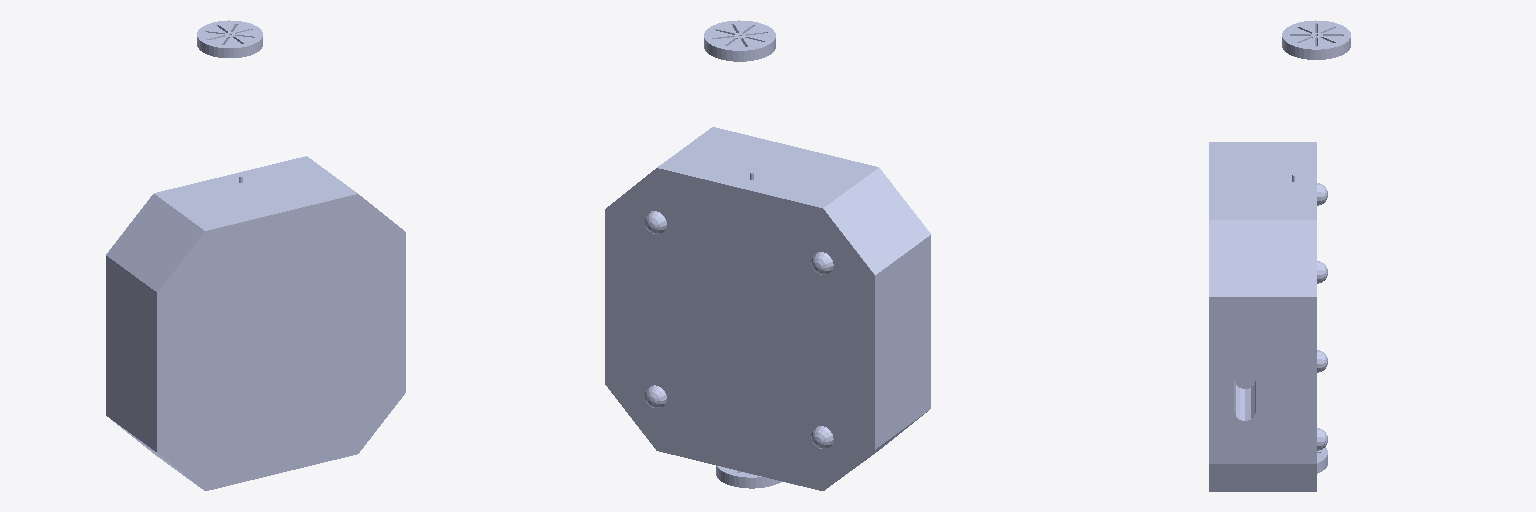
URDF robot description (rebot_new):
<?xml version="1.0" encoding="utf-8"?>
<!-- This URDF was automatically created by SolidWorks to URDF Exporter! Originally created by [author] ([email redacted]) 
     Commit Version: 1.5.1-0-g916b5db  Build Version: 1.5.7152.31018
     For more information, please see http://wiki.ros.org/sw_urdf_exporter -->
<robot
  name="rebot_new">
  <link
    name="base_link">
    <inertial>
      <origin
        xyz="-0.001637 -0.046418 -3.9077E-05"
        rpy="0 0 0" />
      <mass
        value="5.7648" />
      <inertia
        ixx="0.033802"
        ixy="-0.00014645"
        ixz="2.2277E-05"
        iyy="0.058166"
        iyz="-3.496E-06"
        izz="0.032885" />
    </inertial>
    <visual>
      <origin
        xyz="0 0 0"
        rpy="0 0 0" />
      <geometry>
        <mesh
          filename="package://rebot_new/meshes/base_link.STL" />
      </geometry>
      <material
        name="">
        <color
          rgba="0.79216 0.81961 0.93333 1" />
      </material>
    </visual>
    <collision>
      <origin
        xyz="0 0 0"
        rpy="0 0 0" />
      <geometry>
        <mesh
          filename="package://rebot_new/meshes/base_link.STL" />
      </geometry>
    </collision>
  </link>
  <link
    name="right_wheel_link">
    <inertial>
      <origin
        xyz="-4.3886E-17 -0.005 -1.1449E-16"
        rpy="0 0 0" />
      <mass
        value="0.1" />
      <inertia
        ixx="6.1496E-06"
        ixy="9.4419E-23"
        ixz="5.0736E-21"
        iyy="1.1889E-05"
        iyz="-3.7391E-22"
        izz="6.1496E-06" />
    </inertial>
    <visual>
      <origin
        xyz="0 0 0"
        rpy="0 0 0" />
      <geometry>
        <mesh
          filename="package://rebot_new/meshes/right_wheel_link.STL" />
      </geometry>
      <material
        name="">
        <color
          rgba="0.79216 0.81961 0.93333 1" />
      </material>
    </visual>
    <collision>
      <origin
        xyz="0 0 0"
        rpy="0 0 0" />
      <geometry>
        <mesh
          filename="package://rebot_new/meshes/right_wheel_link.STL" />
      </geometry>
    </collision>
  </link>
  <joint
    name="right_wheel_joint"
    type="continuous">
    <origin
      xyz="0 -0.019875 -0.13"
      rpy="1.5708 0 0" />
    <parent
      link="base_link" />
    <child
      link="right_wheel_link" />
    <axis
      xyz="0 1 0" />
  </joint>
  <link
    name="left_wheel_link">
    <inertial>
      <origin
        xyz="0 0 0"
        rpy="0 0 0" />
      <mass
        value="0.1" />
      <inertia
        ixx="6.1496E-06"
        ixy="9.4419E-23"
        ixz="5.0736E-21"
        iyy="1.1889E-05"
        iyz="-3.7391E-22"
        izz="6.1496E-06" />
    </inertial>
    <visual>
      <origin
        xyz="0 0 0"
        rpy="0 0 0" />
      <geometry>
        <mesh
          filename="package://rebot_new/meshes/left_wheel_link.STL" />
      </geometry>
      <material
        name="">
        <color
          rgba="0.79216 0.81961 0.93333 1" />
      </material>
    </visual>
    <collision>
      <origin
        xyz="0 0 0"
        rpy="0 0 0" />
      <geometry>
        <mesh
          filename="package://rebot_new/meshes/left_wheel_link.STL" />
      </geometry>
    </collision>
  </link>
  <joint
    name="left_wheel_joint"
    type="continuous">
    <origin
      xyz="0 -0.019875 0.13"
      rpy="1.5708 0 0" />
    <parent
      link="base_link" />
    <child
      link="left_wheel_link" />
    <axis
      xyz="0 1 0" />
  </joint>
</robot>

--- What the picture shows (computed from the rendered views, not written in the file) ---
3 views of the same robot in one strip: view 1: azimuth 30°, elevation 25°; view 2: azimuth 150°, elevation 25°; view 3: azimuth 270°, elevation 25° (orthographic).
Robot: rebot_new — 3 links, 2 joints (2 continuous); root link base_link; default pose: every joint at zero.
Visible links, largest first — view 1: base_link, left_wheel_link; view 2: base_link, left_wheel_link, right_wheel_link; view 3: base_link, left_wheel_link.
Boxes of the visible links, left/top/right/bottom form: base_link: left=106, top=156, right=405, bottom=490; left_wheel_link: left=197, top=20, right=262, bottom=57; base_link: left=605, top=127, right=930, bottom=490; left_wheel_link: left=704, top=20, right=775, bottom=61; right_wheel_link: left=716, top=465, right=781, bottom=488; base_link: left=1209, top=142, right=1327, bottom=491; left_wheel_link: left=1282, top=20, right=1350, bottom=59.
Bounding box of the posed robot: 0.26 × 0.1235 × 0.41 m (x, y, z).
Meshes: 3 distinct files referenced, 3 mesh visuals loaded (3 binary STL).